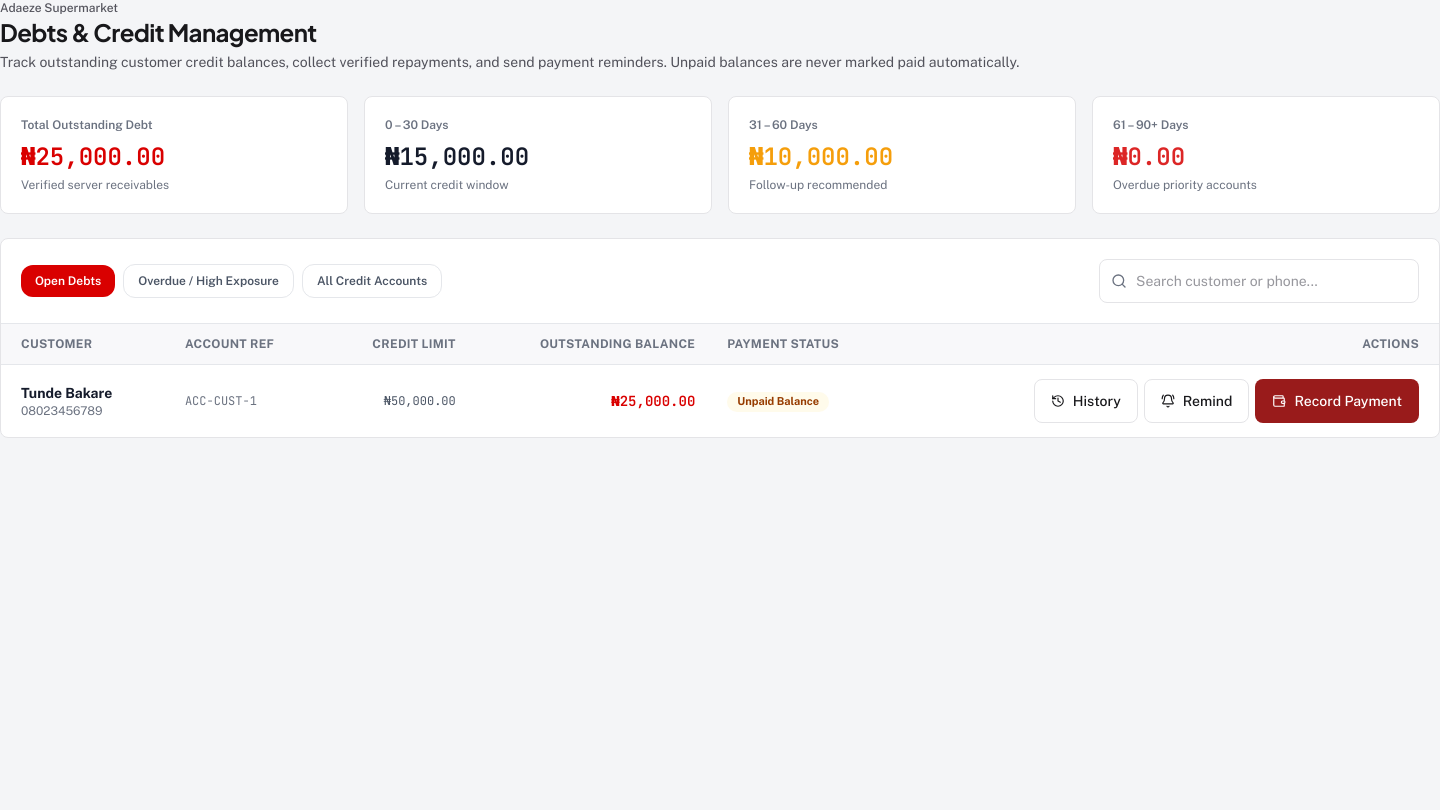
Test: Commercial SaaS Operational Modules (Purchases, Suppliers, Debts & Direct Routes) › DebtsPage displays aging buckets, prevents overpayment, and issues a verified Debt Repayment Receipt
Expected: the text "Tunde Bakare" is shown, 21,385 -> 112,401
Click the button "Record Payment".
click(1337, 401)  # box 1255,379 -> 1419,423
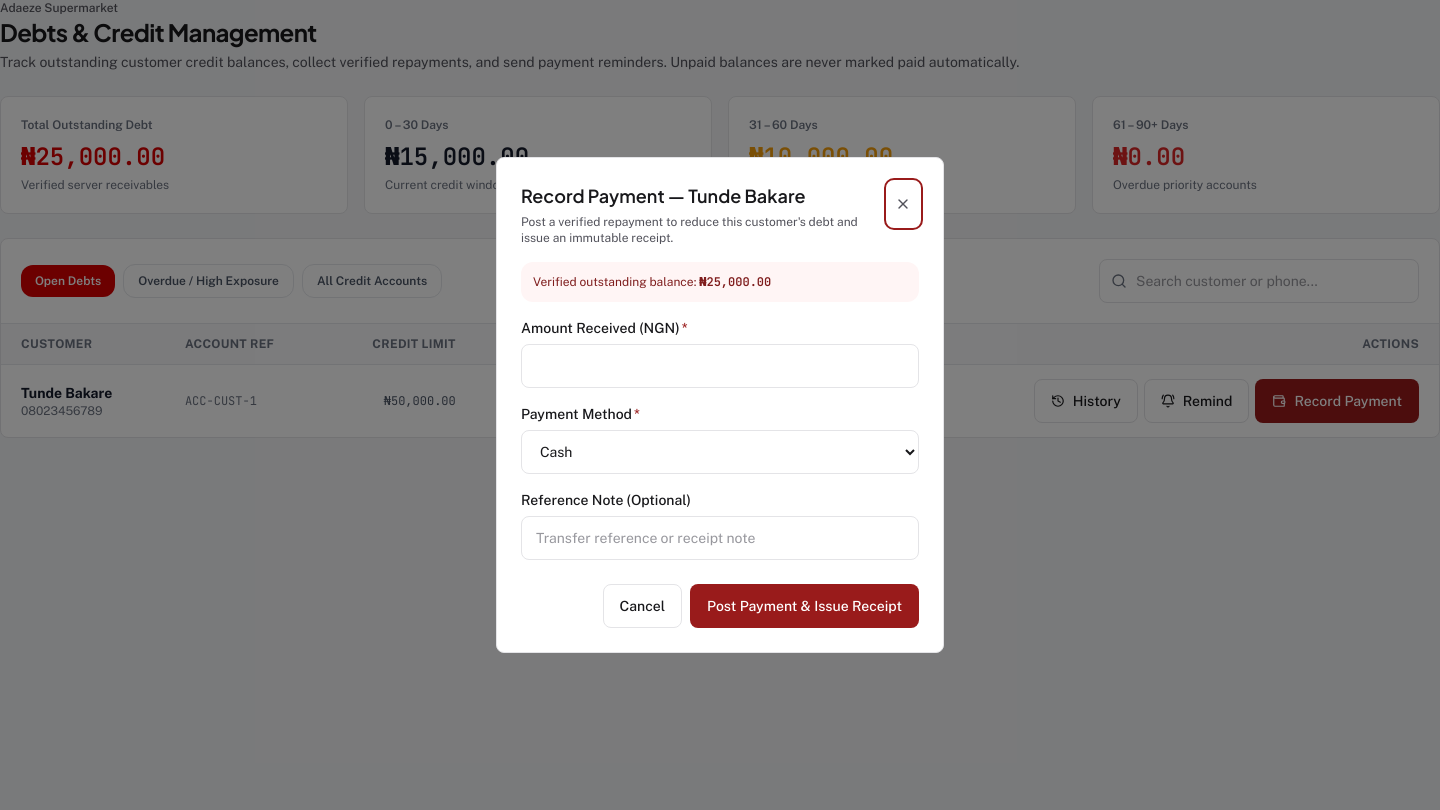
Type "10000" into the number field labelled "Amount Received (NGN)".
click(720, 366); type("10000")  # box 521,344 -> 919,388
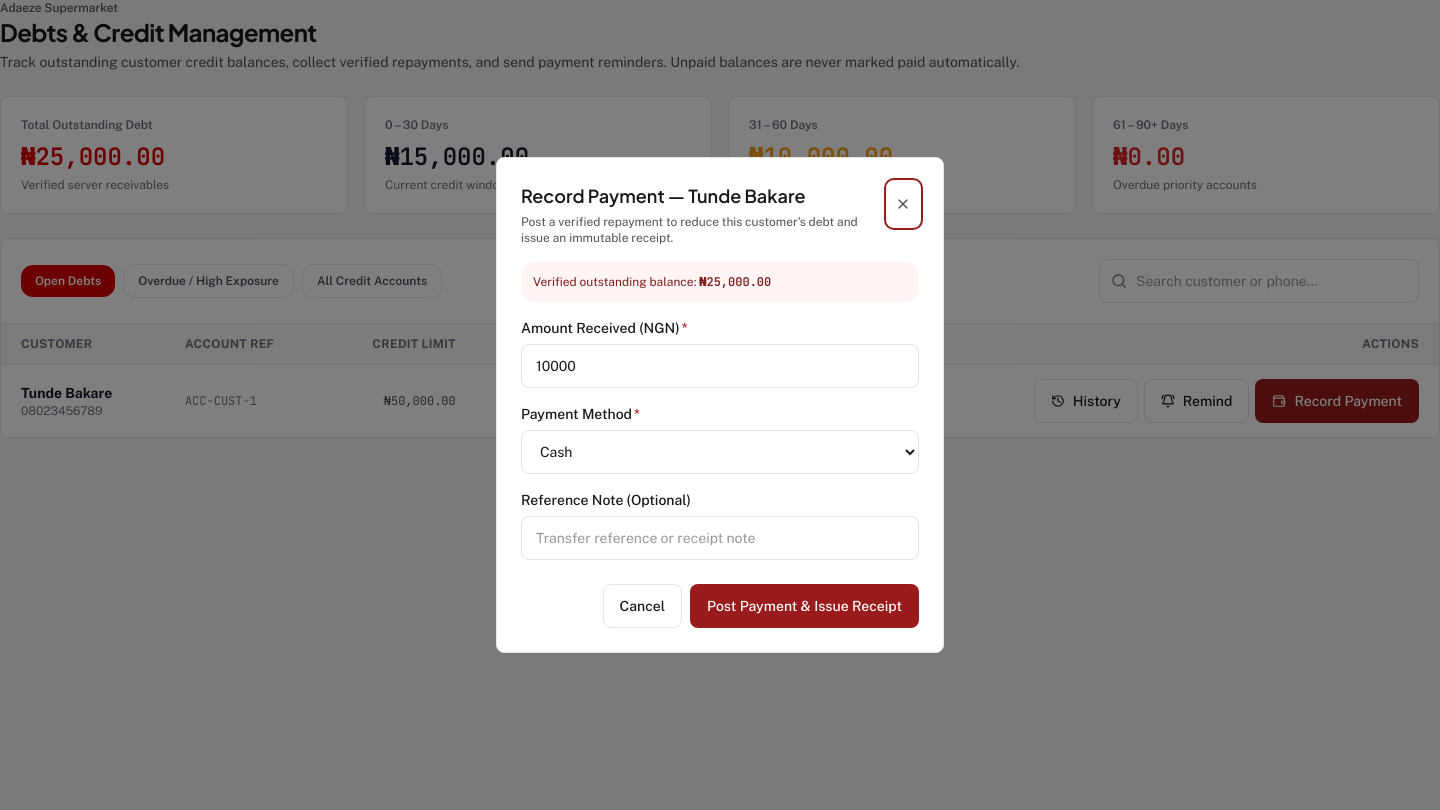
Click the button "Post Payment & Issue Receipt".
click(805, 606)  # box 690,584 -> 919,628
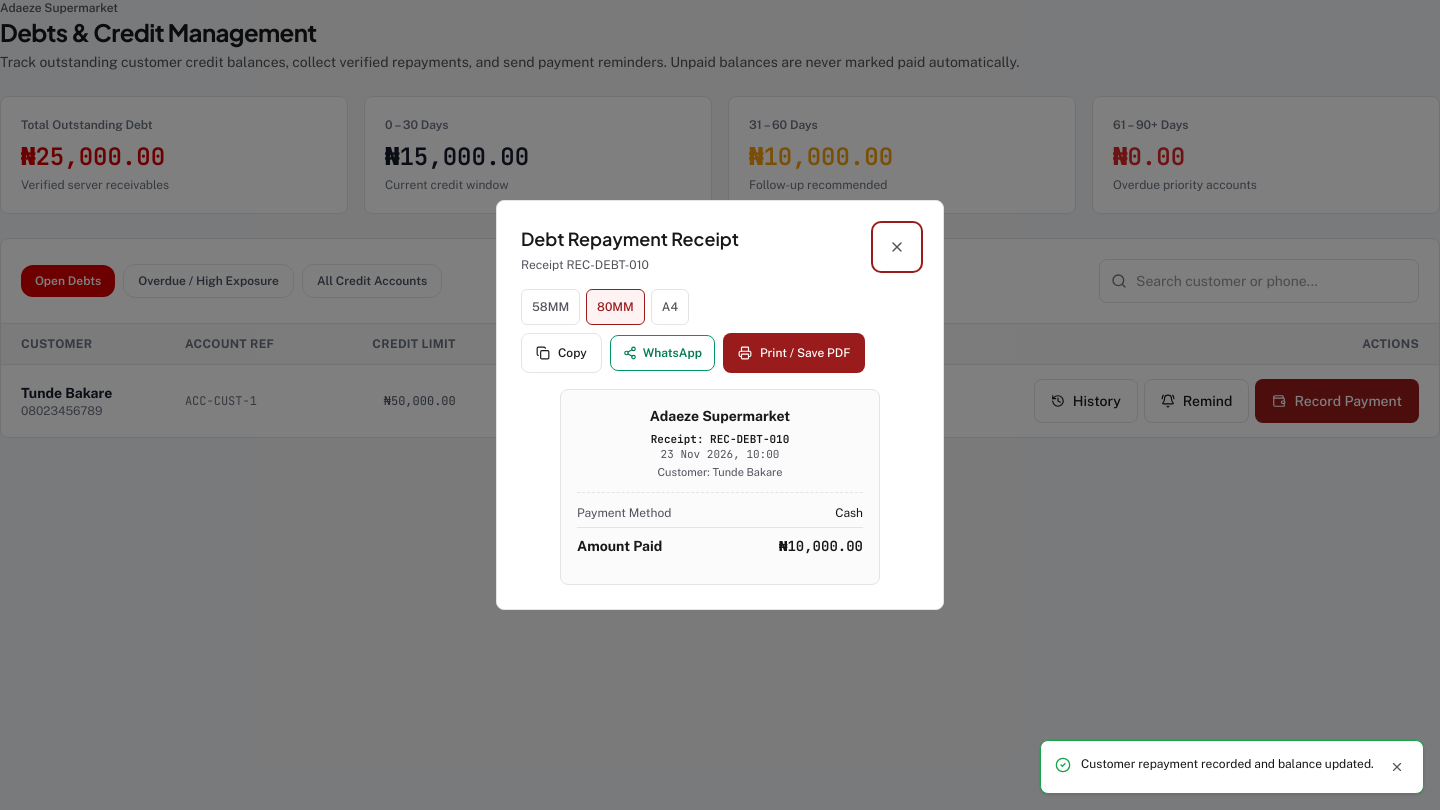
Expected: the text "Receipt: REC-DEBT-010" is shown, 651,432 -> 789,446
